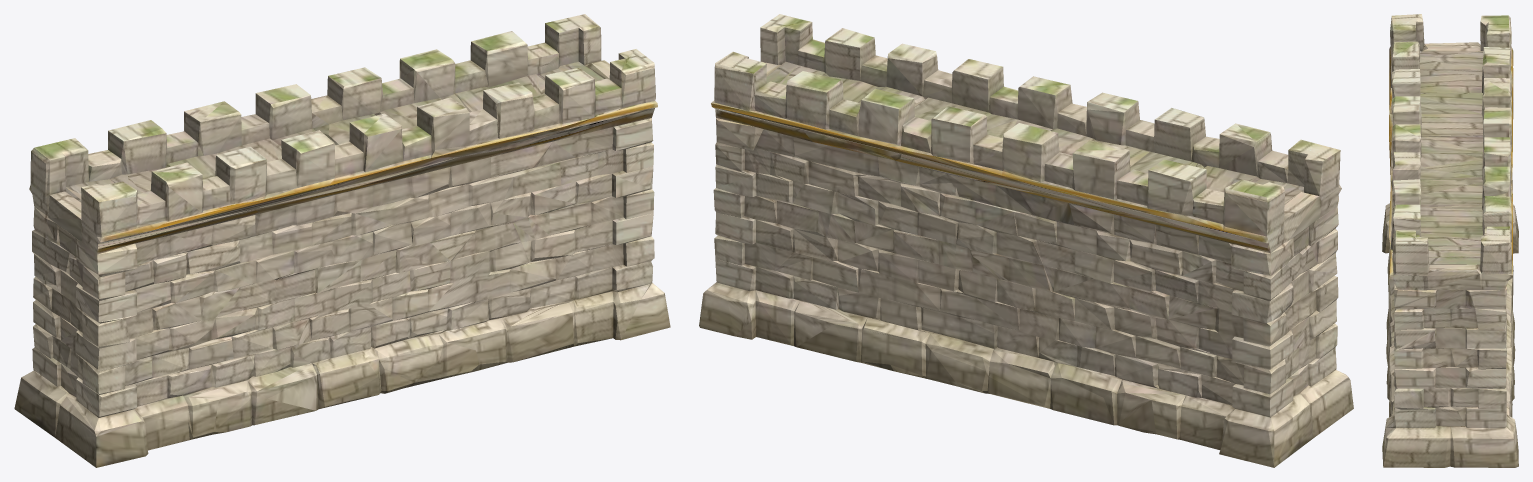
File: oc_wall.glb
3 renders of one model, left to right at view 1: azimuth 30°, elevation 25°; view 2: azimuth 150°, elevation 25°; view 3: azimuth 270°, elevation 25°, orthographic. The views are drawn at different scales.
Parts seen in each view (by area): view 1: W_wall_segment; view 2: W_wall_segment; view 3: W_wall_segment.
Boxes of the visible parts, x1,y1,x2,y2 form: W_wall_segment: [14, 14, 670, 467]; W_wall_segment: [699, 14, 1353, 467]; W_wall_segment: [1382, 14, 1518, 467].
Size of the model in its own units: 29.8 by 13 by 7.27.
1 material, 1 textured.
